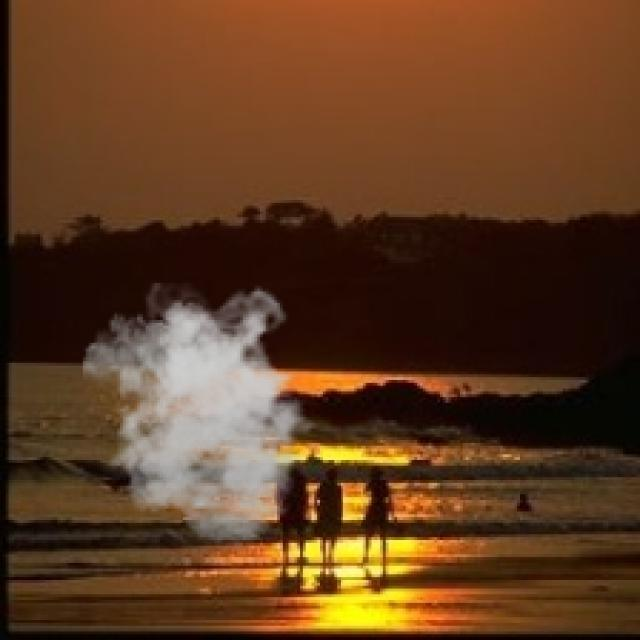Smoke: (82, 283, 328, 546)
